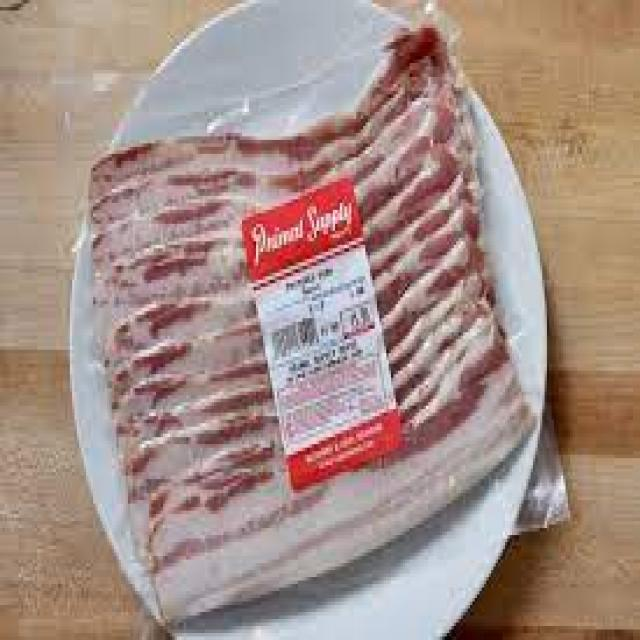bacon: (89, 42, 535, 618)
